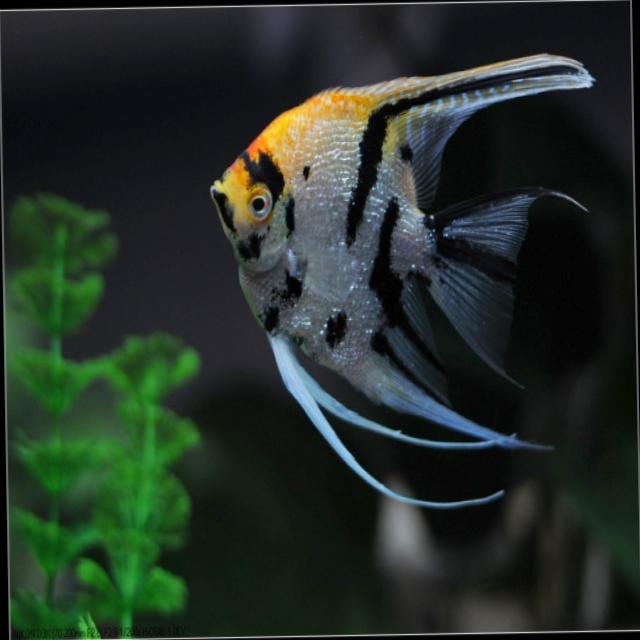AngelFish: (210, 51, 601, 512)
